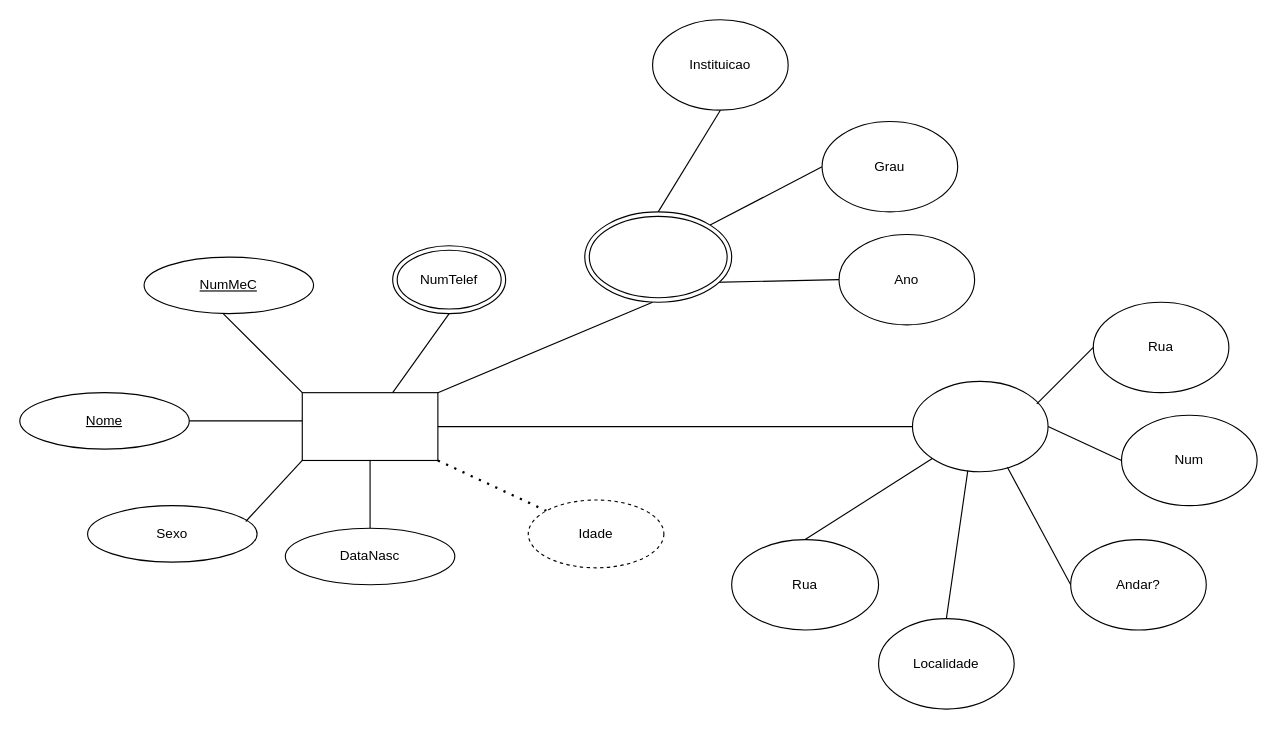
The diagram is 1277 pixels wide and 729 high, and some of its shapes have lost their labels. The centre of each missing label's shape, as x and y in pixels:
"ALUNO" belongs at (369,426).
"Habilitacao" belongs at (658,256).
"Morada" belongs at (979,426).
